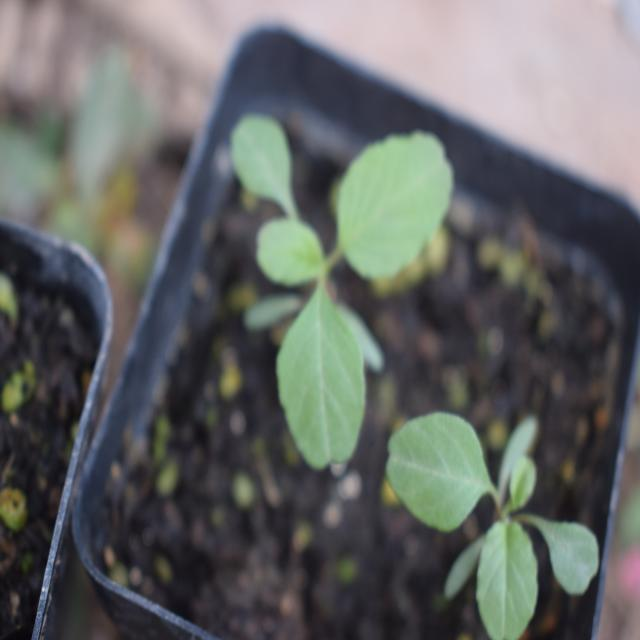pigweed: (378, 402, 624, 627)
